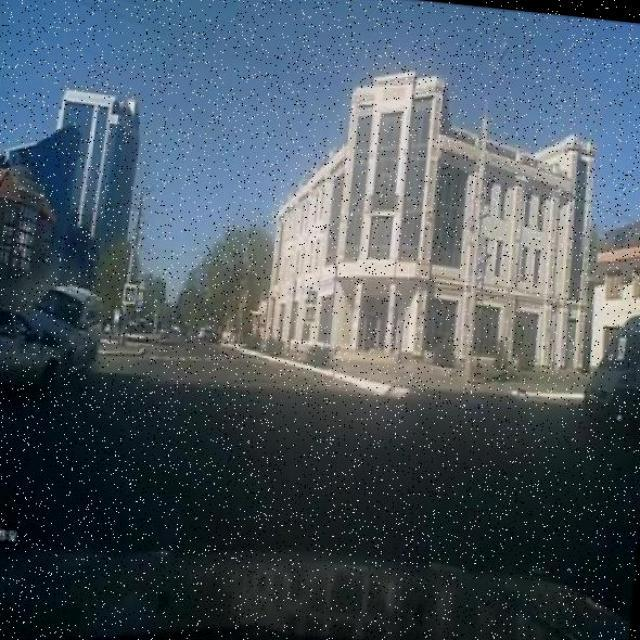accident: (0, 267, 107, 403)
